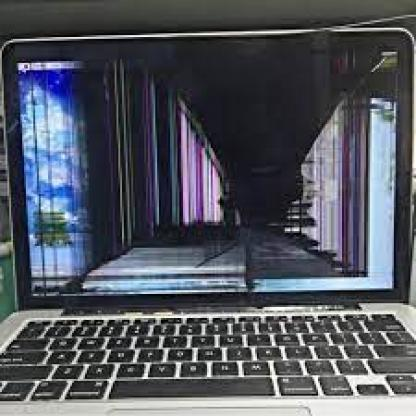crack: (15, 50, 399, 298)
lines: (24, 76, 87, 292), (81, 65, 156, 244)
